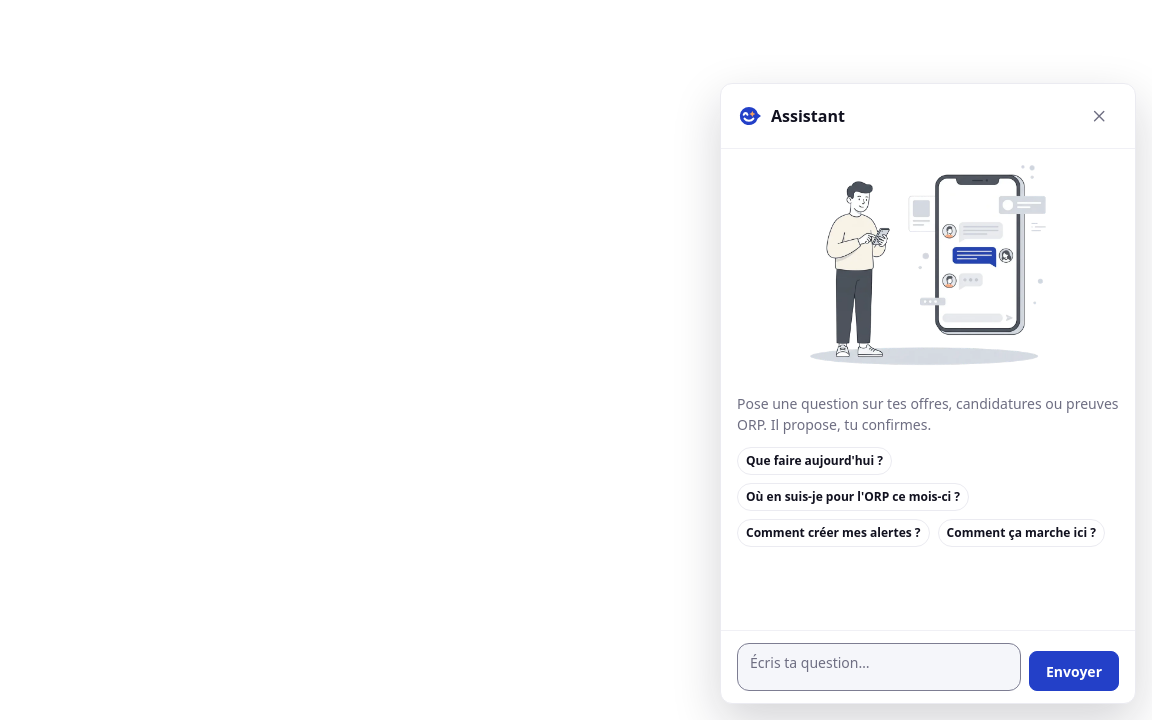
Test: AssistantPanel, les visages de la mascotte (docs/99) › une erreur reste à l'écoute
Type "Bonjour" into the text box with test id "assistant-input".
click(879, 667); type("Bonjour")  # box [737,643,1021,691]
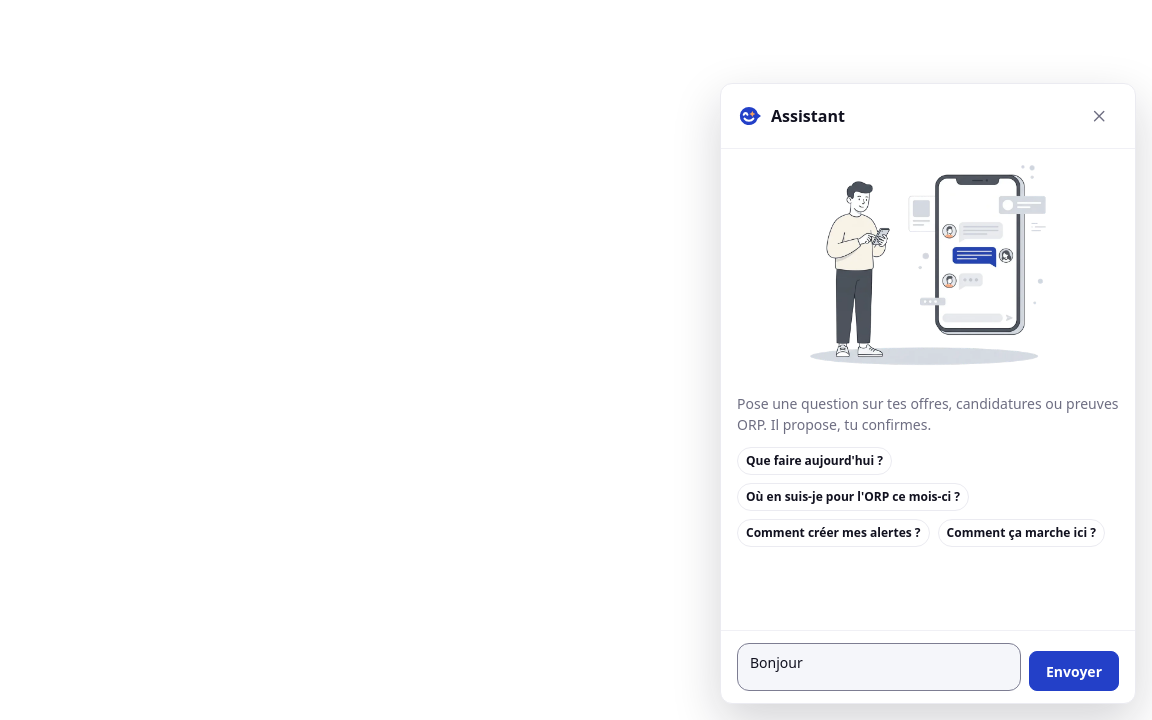
Submit the form with class "assistant-form", box [721,630,1135,703]
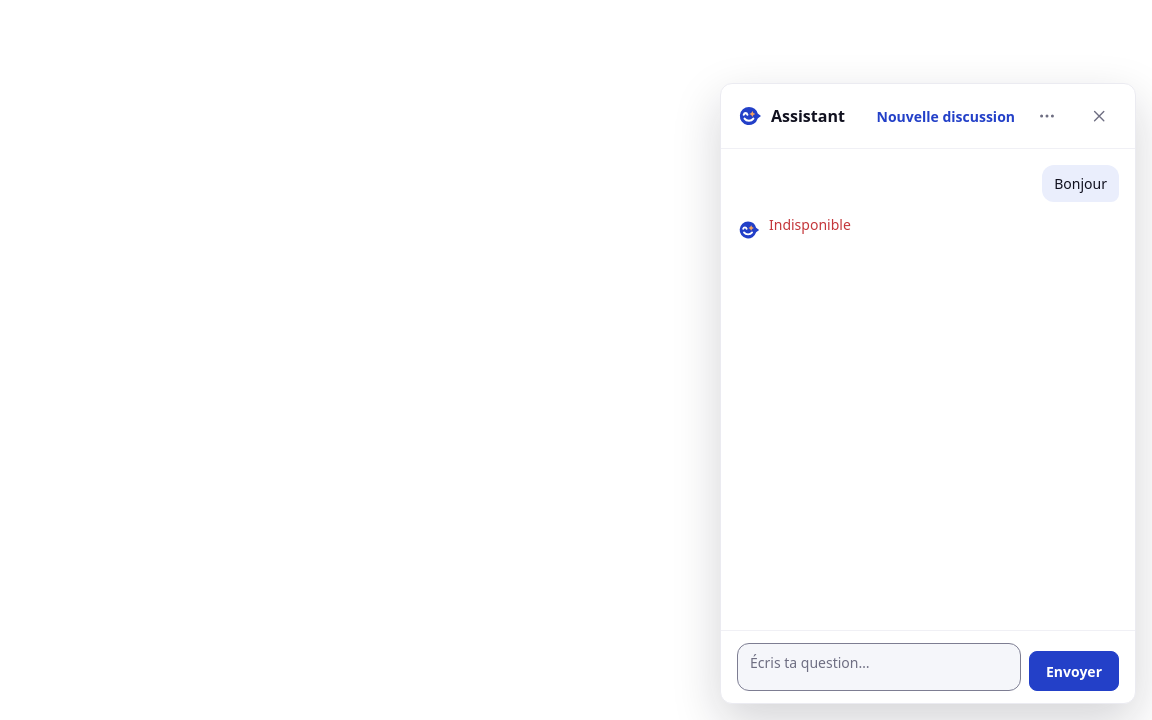
Expected: the element with class "assistant" reads "Indisponible", [769,215,851,234]
